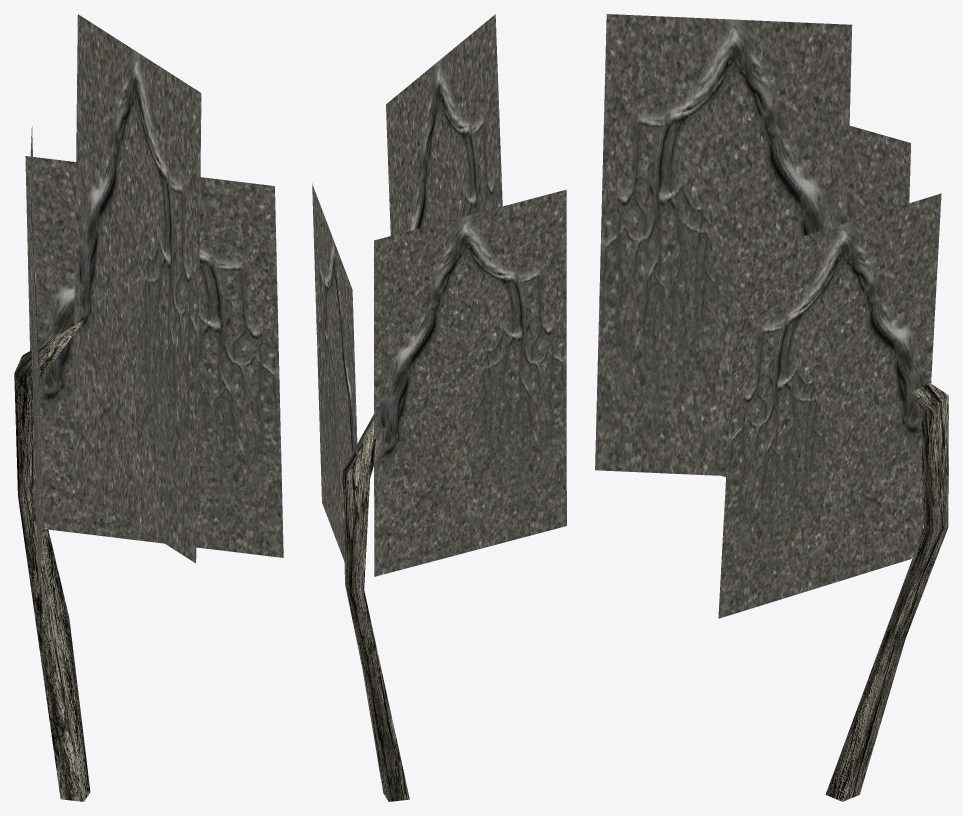
File: shrb_dath_glingi_l1.fbx
The picture shows the model from 3 angles, left to right: view 1: azimuth 30°, elevation 25°; view 2: azimuth 150°, elevation 25°; view 3: azimuth 270°, elevation 25°; orthographic projection. The views are drawn at different scales.
Visible parts, largest first — view 1: mesh_node; view 2: mesh_node; view 3: mesh_node.
Part boxes in pixels (x1=…): mesh_node: x1=14, y1=14, x2=283, y2=801; mesh_node: x1=312, y1=14, x2=566, y2=801; mesh_node: x1=595, y1=14, x2=948, y2=801.
Size of the model in its own units: 1.99 by 5.64 by 2.31.
